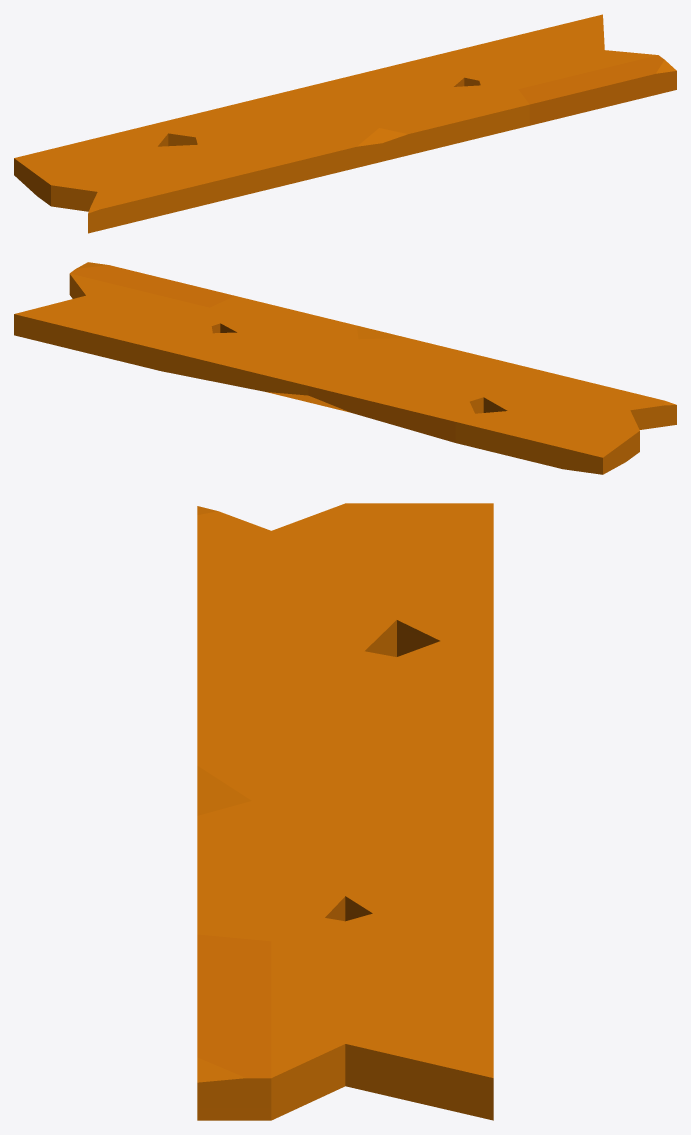
Rendered from Rotten wood_12.fbx.
The picture shows the model from 3 angles, top to bottom: view 1: azimuth 30°, elevation 25°; view 2: azimuth 150°, elevation 25°; view 3: azimuth 270°, elevation 25°; orthographic projection. The views are drawn at different scales.
Visible parts, largest first — view 1: Cube.087; view 2: Cube.087; view 3: Cube.087.
Part boxes in pixels (box(x1,y1,x2,y2)): Cube.087: box(14, 14, 676, 233); Cube.087: box(14, 262, 676, 474); Cube.087: box(197, 503, 493, 1120).
Size of the model in its own units: 60.01 by 2.07 by 13.07.
